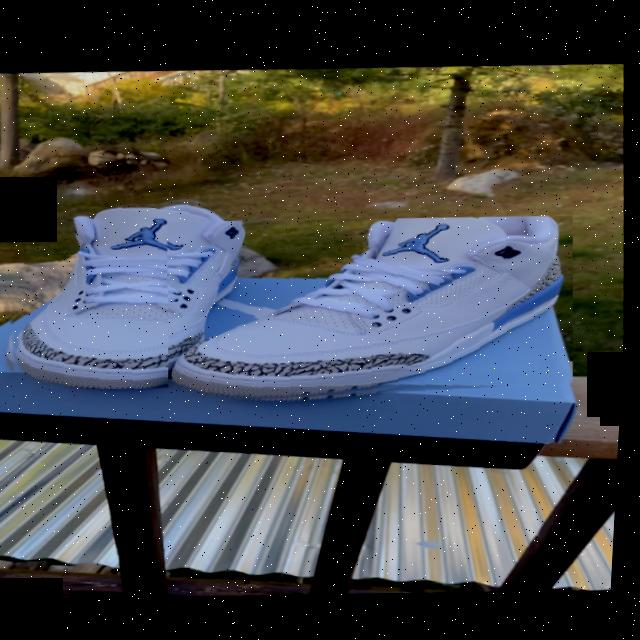shoe: (162, 200, 585, 415), (0, 184, 261, 397)
